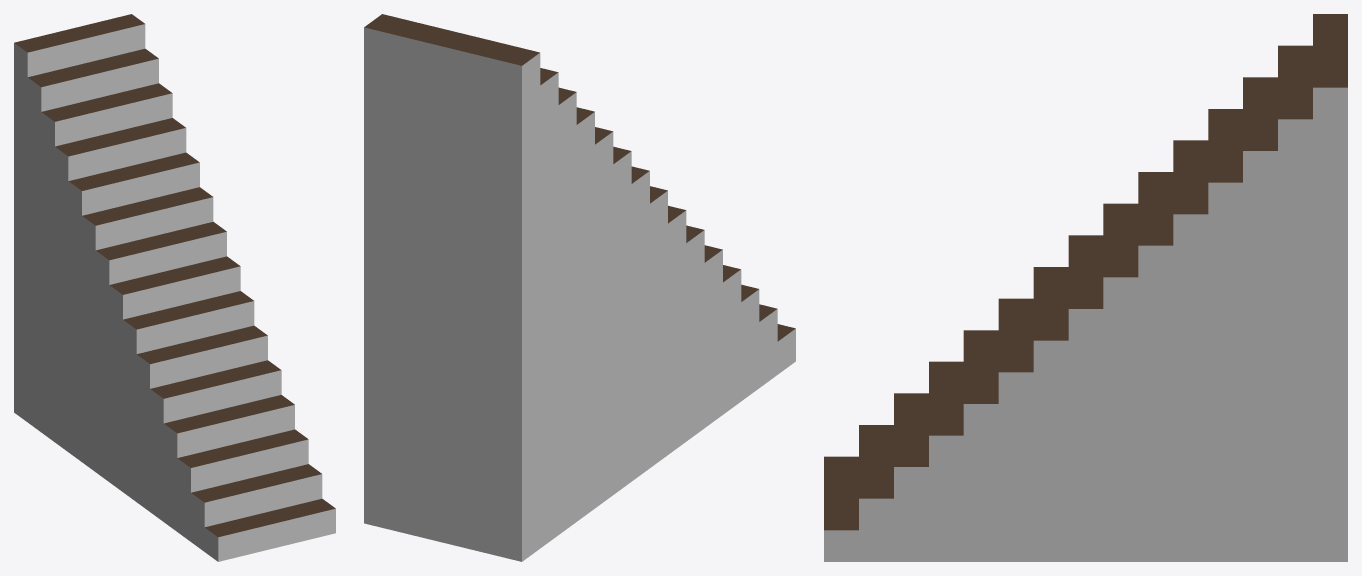
File: buildings_stairs-house.fbx
3 views of the same model, side by side, from view 1: azimuth 30°, elevation 25°; view 2: azimuth 150°, elevation 25°; view 3: azimuth 270°, elevation 25° (orthographic). The views are drawn at different scales.
Visible parts, largest first — view 1: buildings_stairs_house; view 2: buildings_stairs_house; view 3: buildings_stairs_house.
Part boxes in pixels (<box>): buildings_stairs_house: <box>14,14,335,561</box>; buildings_stairs_house: <box>364,14,795,561</box>; buildings_stairs_house: <box>824,14,1347,561</box>.
Size of the model in its own units: 66.61 by 200 by 200.
